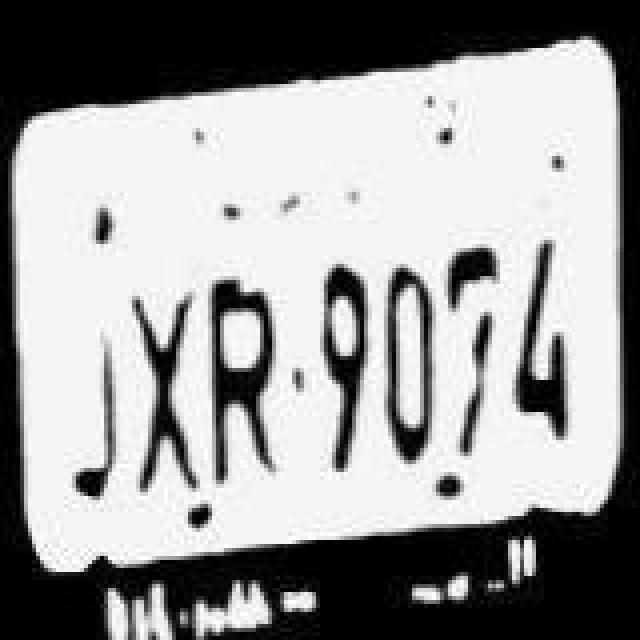4: (512, 218, 588, 462)
7: (448, 214, 516, 462)
9: (312, 250, 380, 502)
J: (54, 310, 130, 530)
O: (378, 240, 450, 476)
R: (202, 256, 290, 492)
X: (128, 282, 208, 506)
